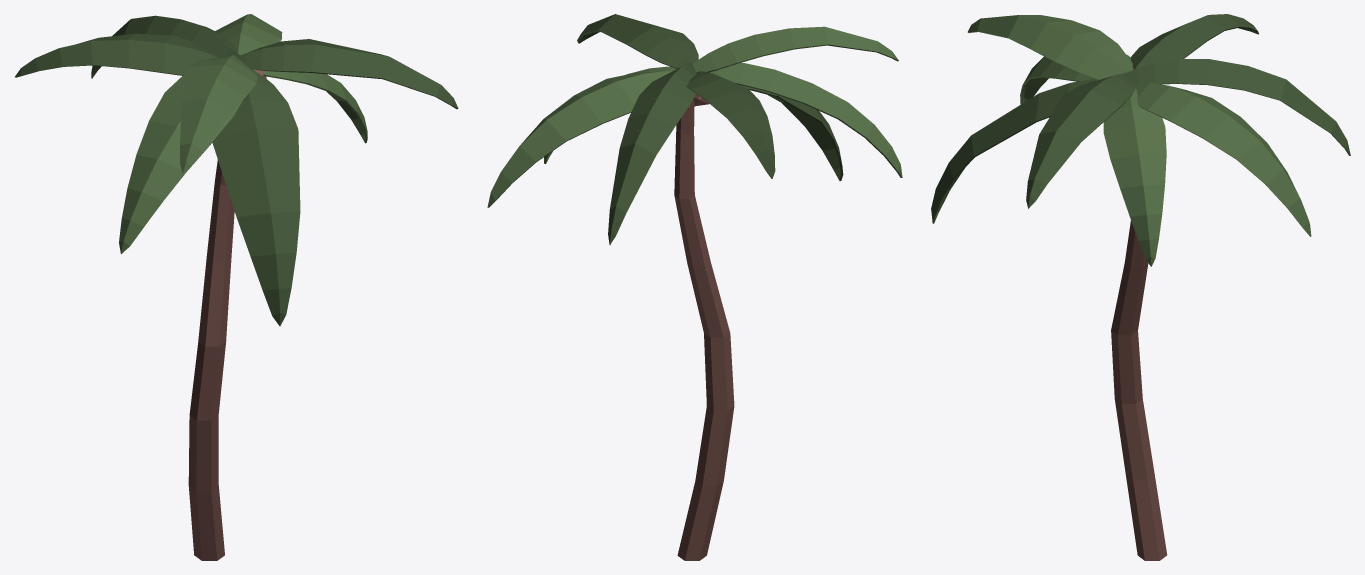
File: palmtree_4.glb
3 views of the same model, side by side, from view 1: azimuth 30°, elevation 25°; view 2: azimuth 150°, elevation 25°; view 3: azimuth 270°, elevation 25° (orthographic). The views are drawn at different scales.
Visible parts, largest first — view 1: PalmTree_4; view 2: PalmTree_4; view 3: PalmTree_4.
Boxes of the visible parts, x1,y1,x2,y2 form: PalmTree_4: (15,14,458,560); PalmTree_4: (487,14,902,560); PalmTree_4: (931,14,1350,560).
Bounding box in the file's own units: 2.34 × 3.47 × 2.59.
